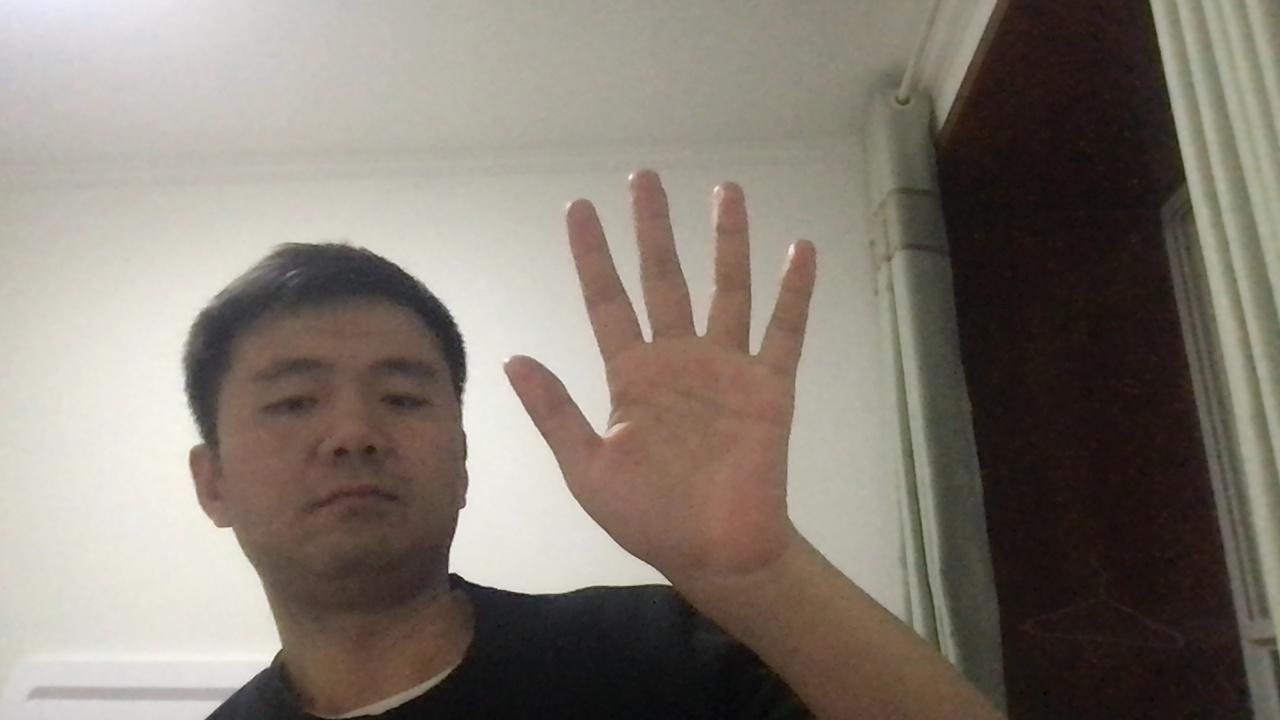hello: (496, 166, 825, 576)
